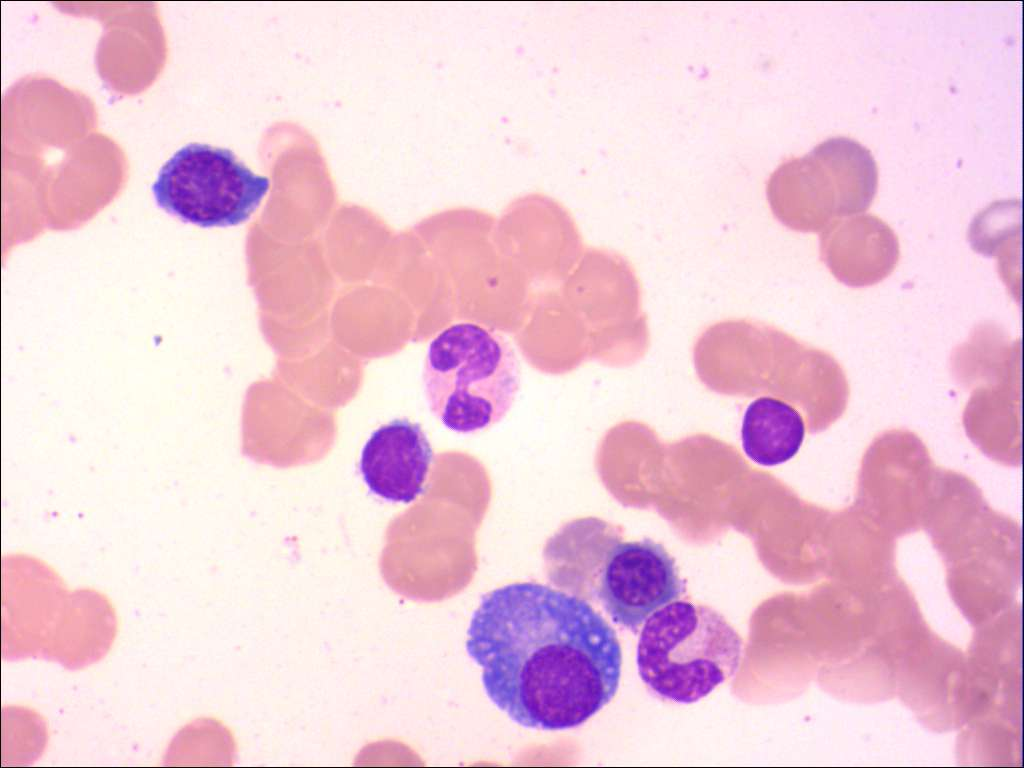23: (147, 139, 273, 233)
24: (596, 533, 689, 633)
32: (354, 414, 436, 508)
5: (635, 595, 743, 706)
51: (460, 577, 625, 734)
6: (419, 317, 526, 438)
x: (737, 392, 807, 472)
